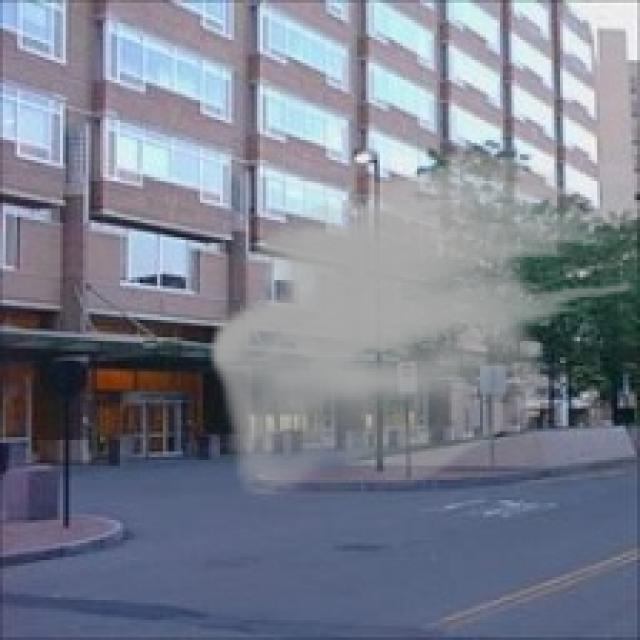smoke: (209, 146, 634, 497)
